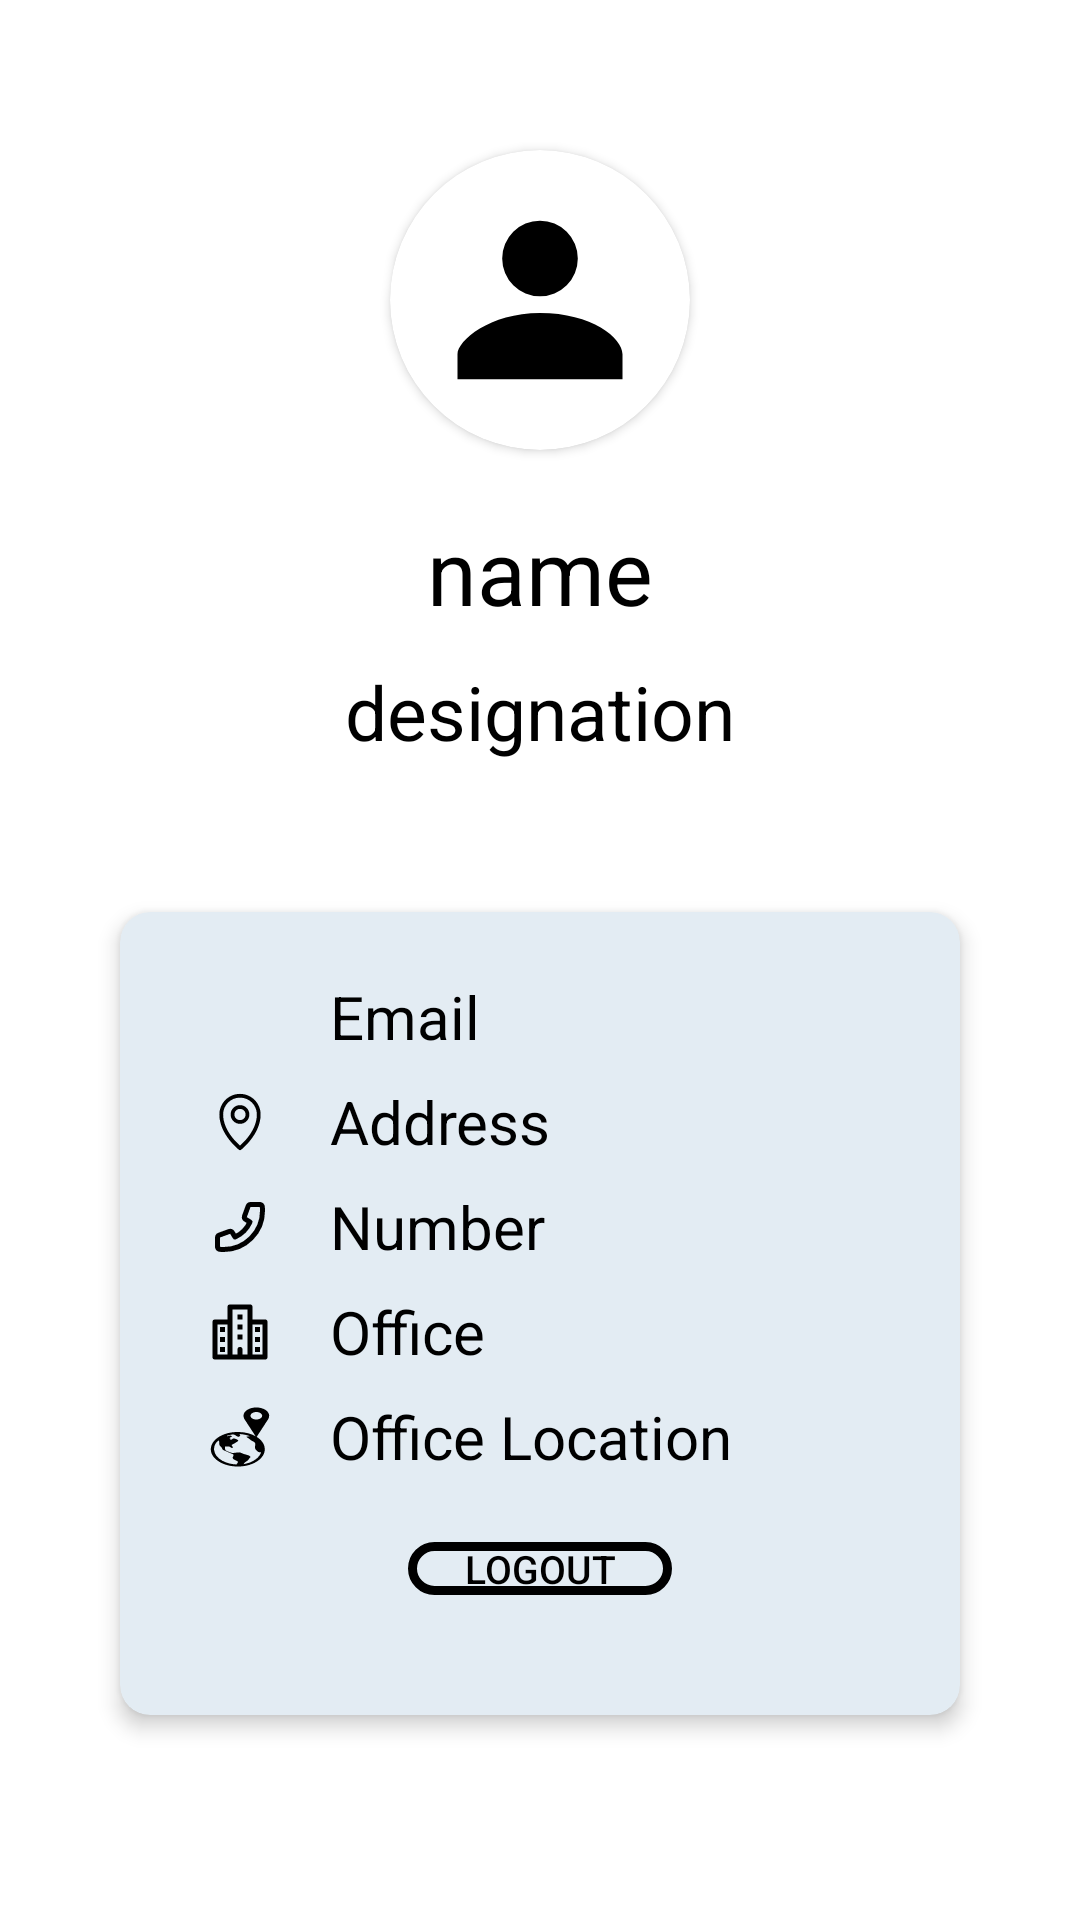

Icons on this 1080 × 1920 Android screen, each with its box as [x1=x1, y1=y1, x2=x2, y2=y2]:
person: [x1=396, y1=220, x2=684, y2=450]
phone: [x1=215, y1=1202, x2=265, y2=1252]
